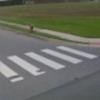crosswalks: (1, 44, 100, 87)
